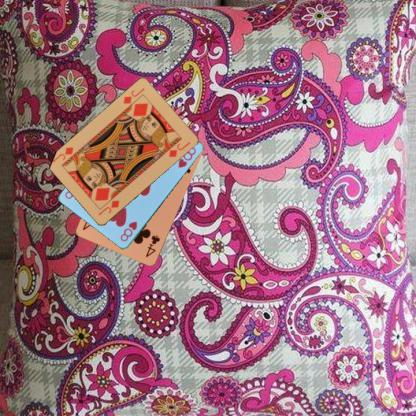4c: (143, 233, 161, 259)
8h: (118, 219, 139, 243)
Jd: (120, 86, 146, 105), (96, 198, 121, 217)
